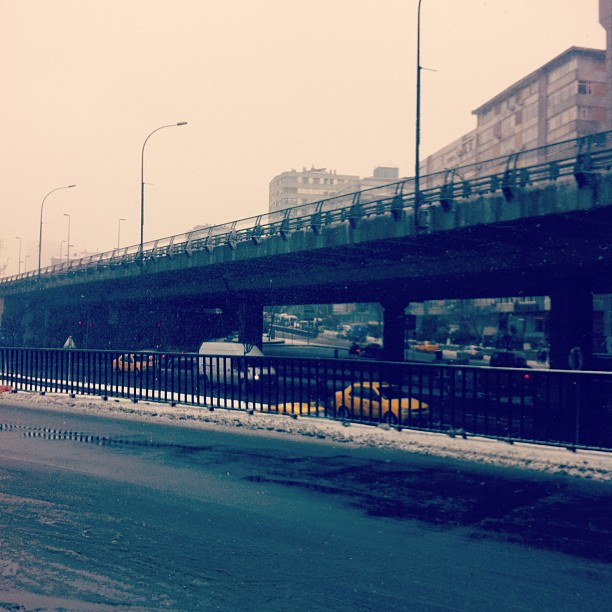bridge: (1, 203, 603, 348)
building: (411, 50, 608, 192), (268, 162, 408, 212)
car: (335, 371, 433, 433)
street: (7, 396, 612, 612)
van: (196, 336, 287, 391)
